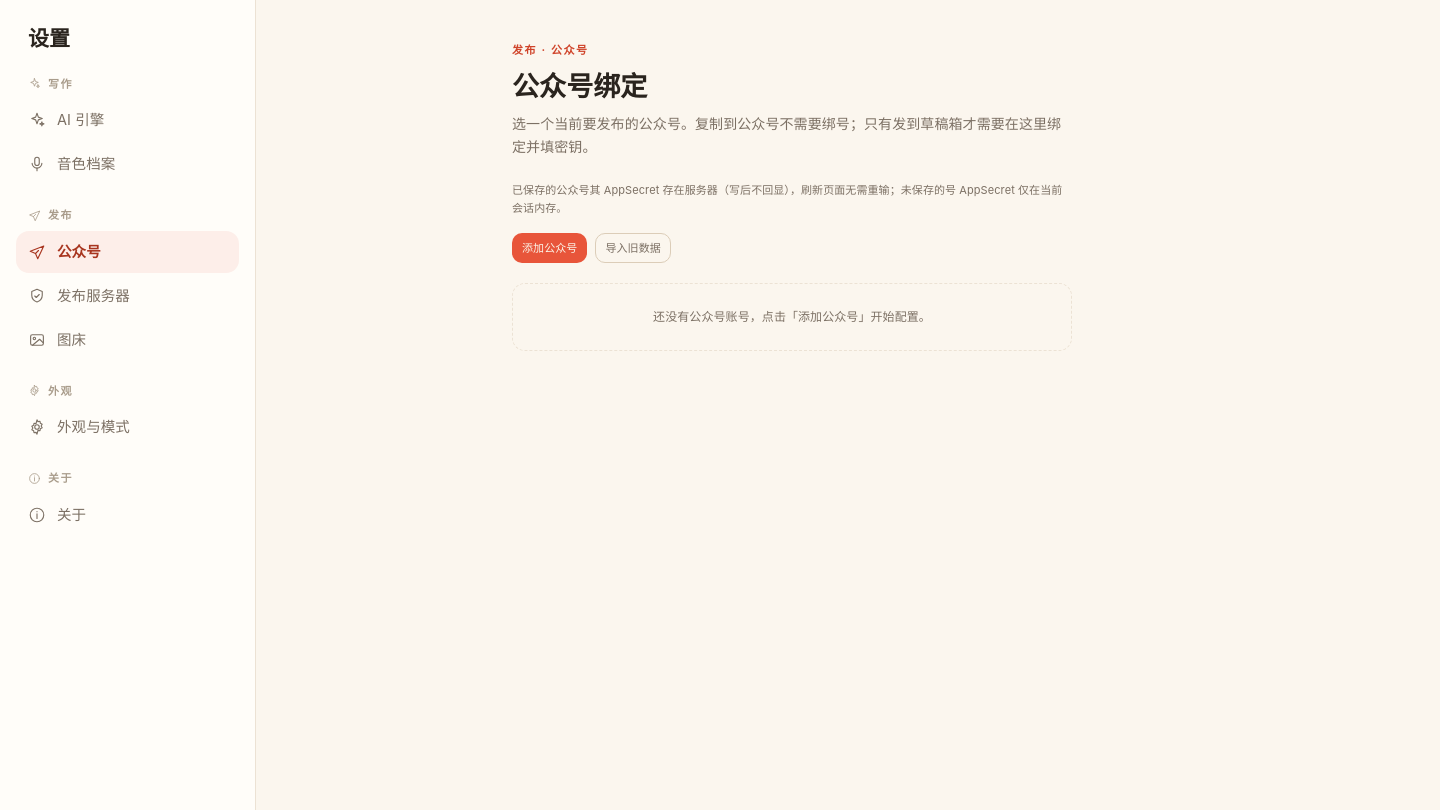
SettingsSurface WeChat section › does not bind (no store write / no putCredential) when the connection test fails
The image size is (1440, 810).
Click the button "添加公众号" at (550, 248), box [512,233,587,263]
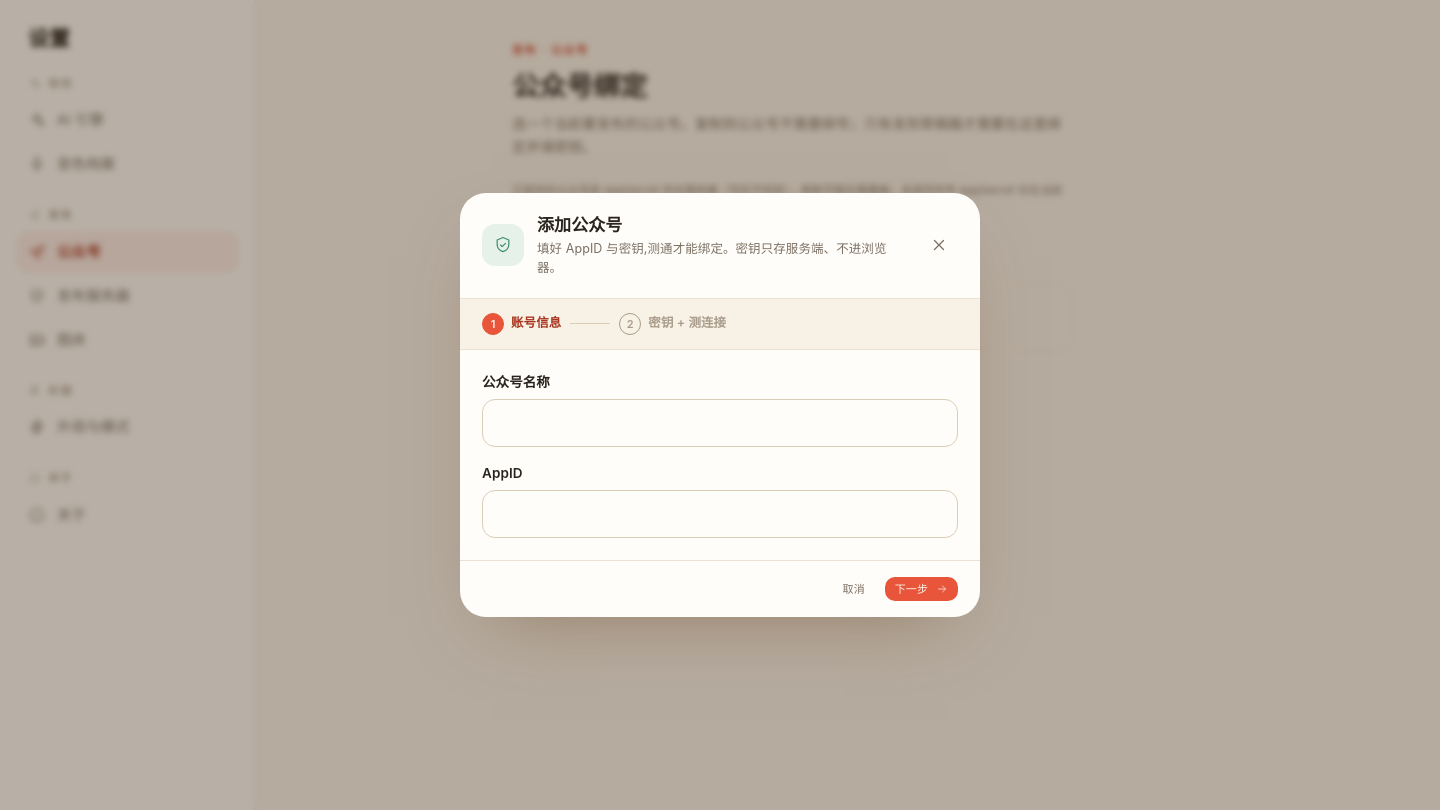
Type "X" into the field named "名称" at (720, 423), box [497,400,943,446]
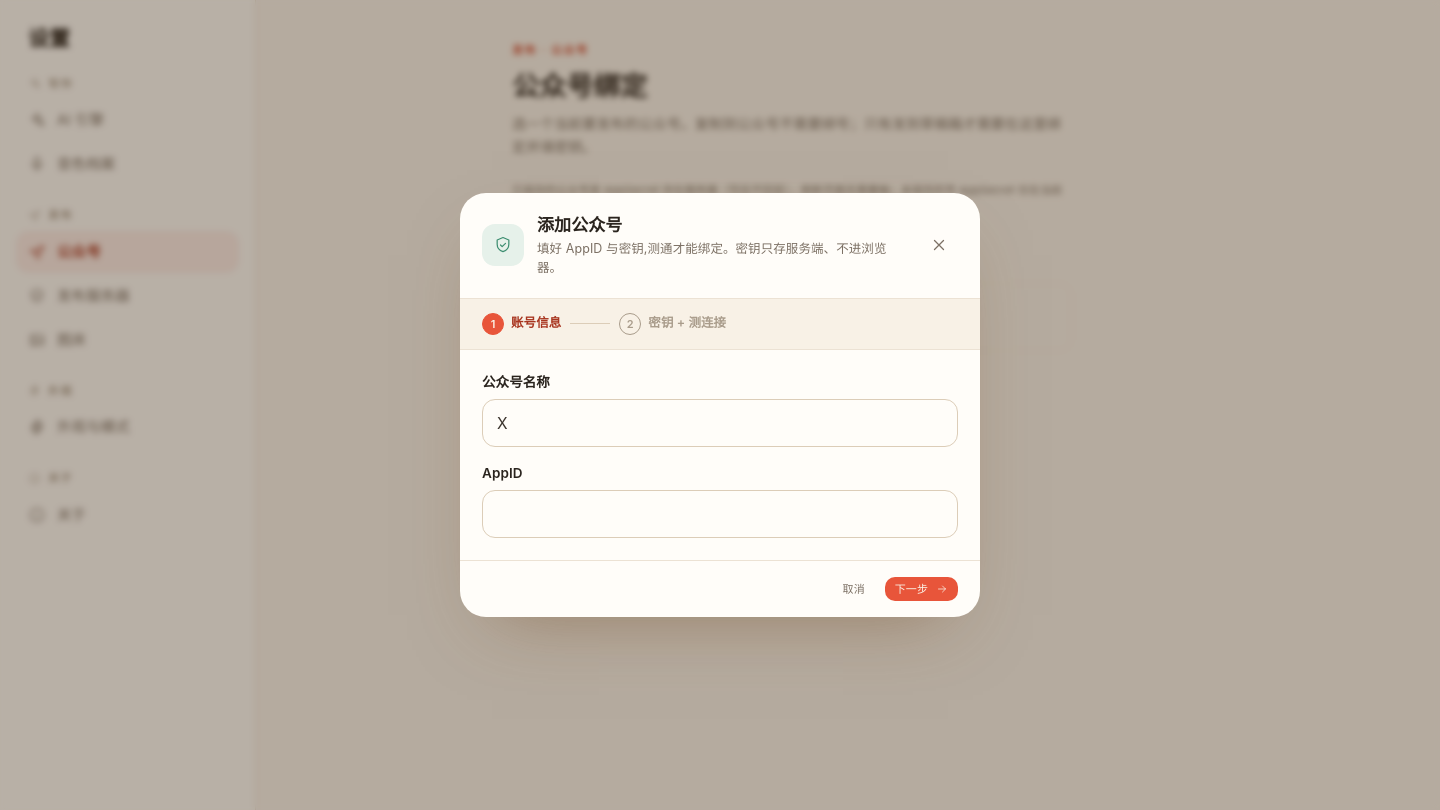
Type "wxX" into the field named "AppID" at (720, 514), box [497,491,943,537]
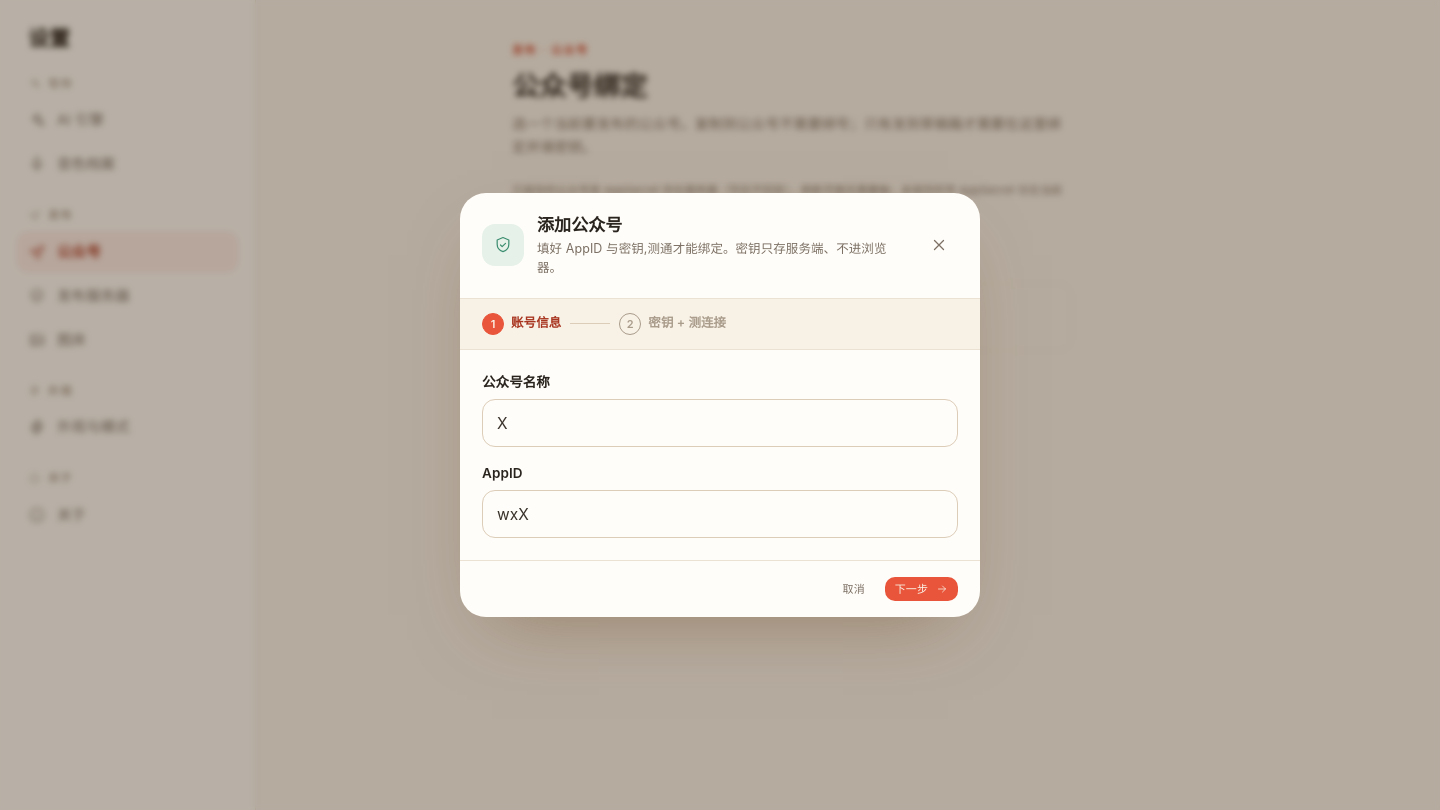
Click the button "下一步" at (921, 589), box [885,577,958,601]
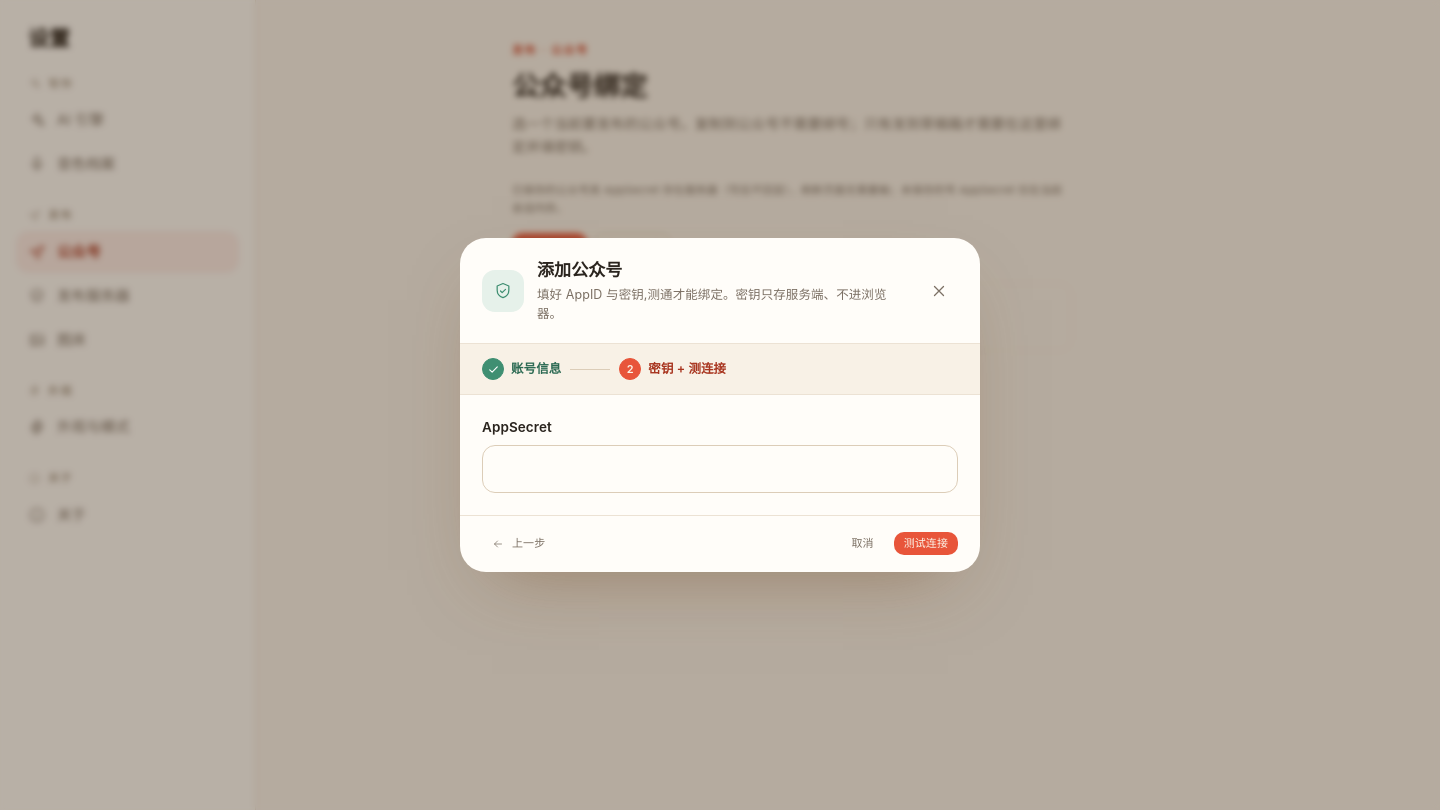
Type "nope" into the password field named "AppSecret" at (720, 469), box [497,446,943,492]
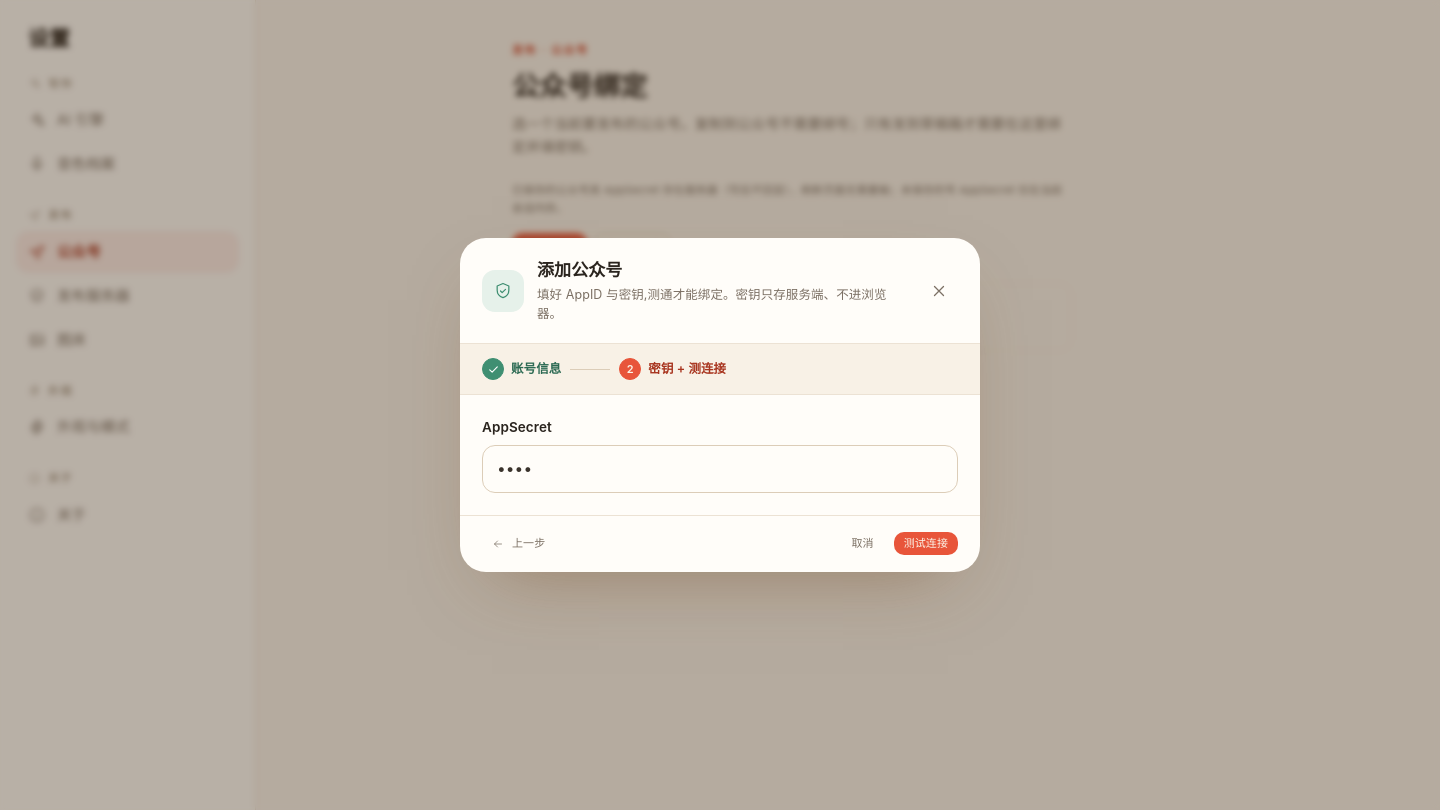
Click the button "测试连接" at (926, 544), box [894,532,958,555]
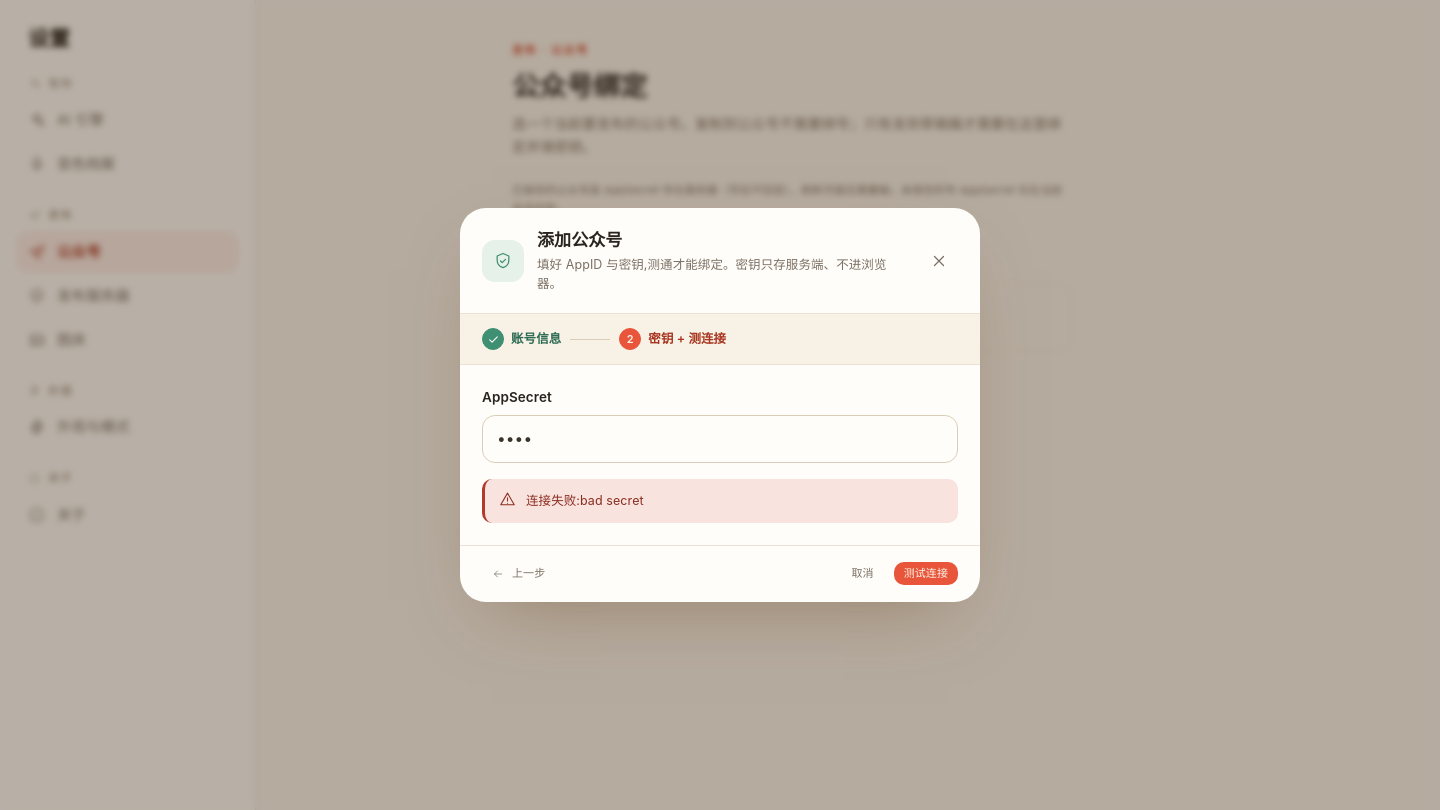
Check: the text "连接失败:bad secret" is shown, box [526,491,644,511]
